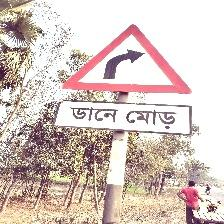Right-turn: (55, 24, 194, 137)
